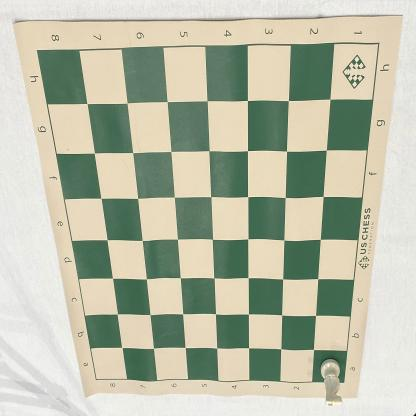white-knight: (319, 358, 344, 411)
